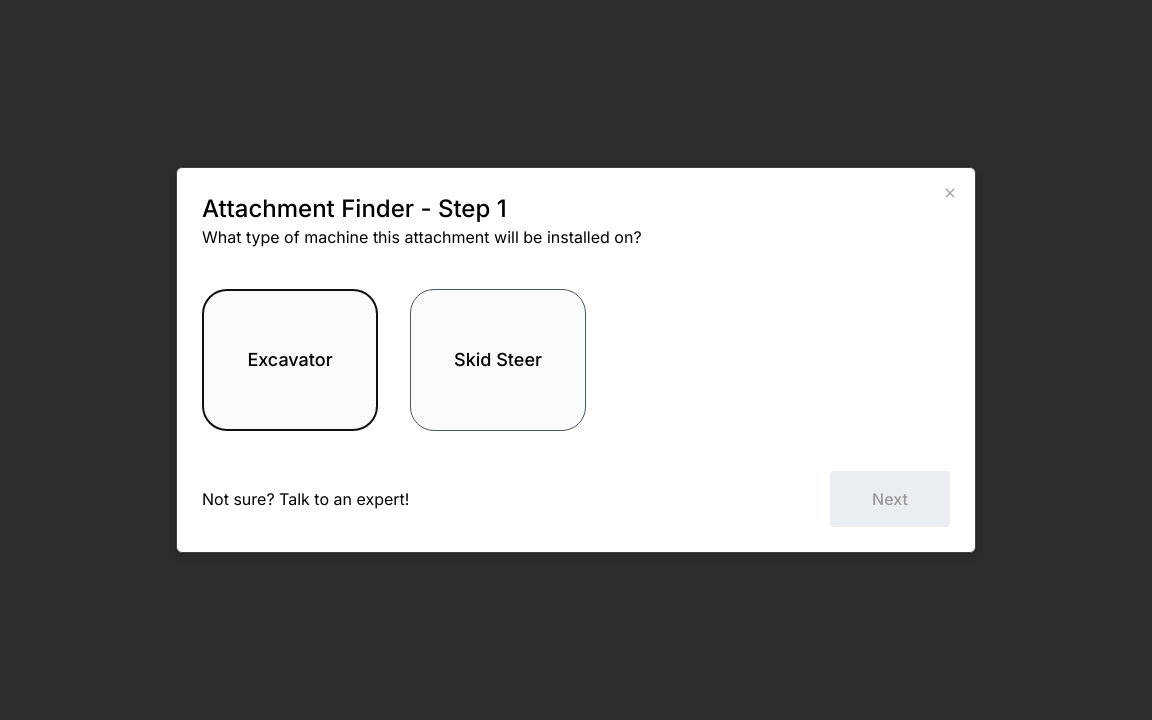
Test: Attachment finder modal › should render second step corretly
# Machine step
Click the button "Skid Steer". click: (498, 360)
box: [410,289,586,431]
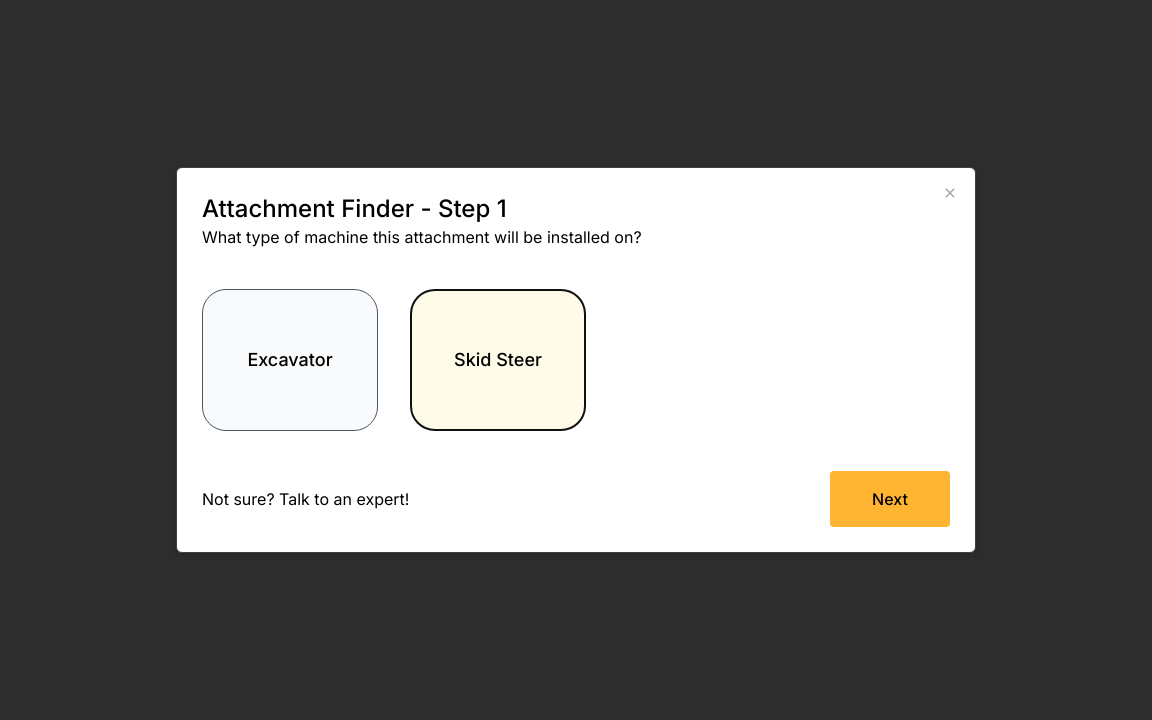
Click the button "Next". click: (890, 499)
box: [830,471,950,527]
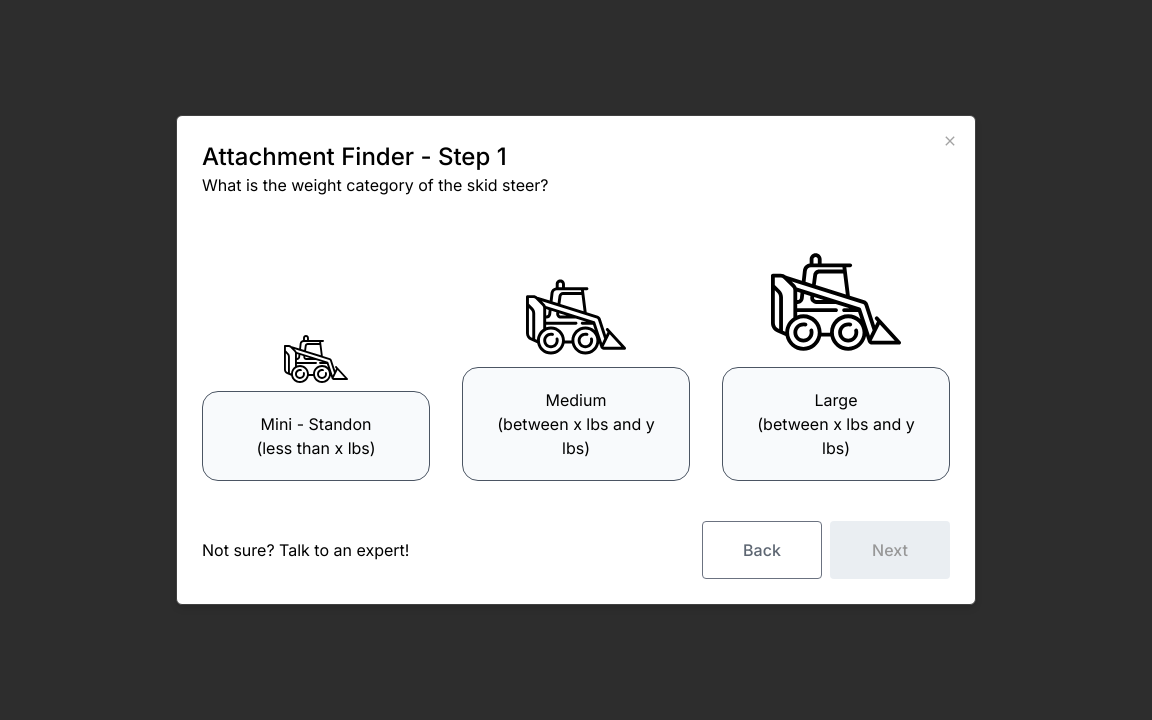
# Weight step
Click the button "Medium (between x lbs and y lbs)". click: (576, 424)
box: [462,367,690,481]
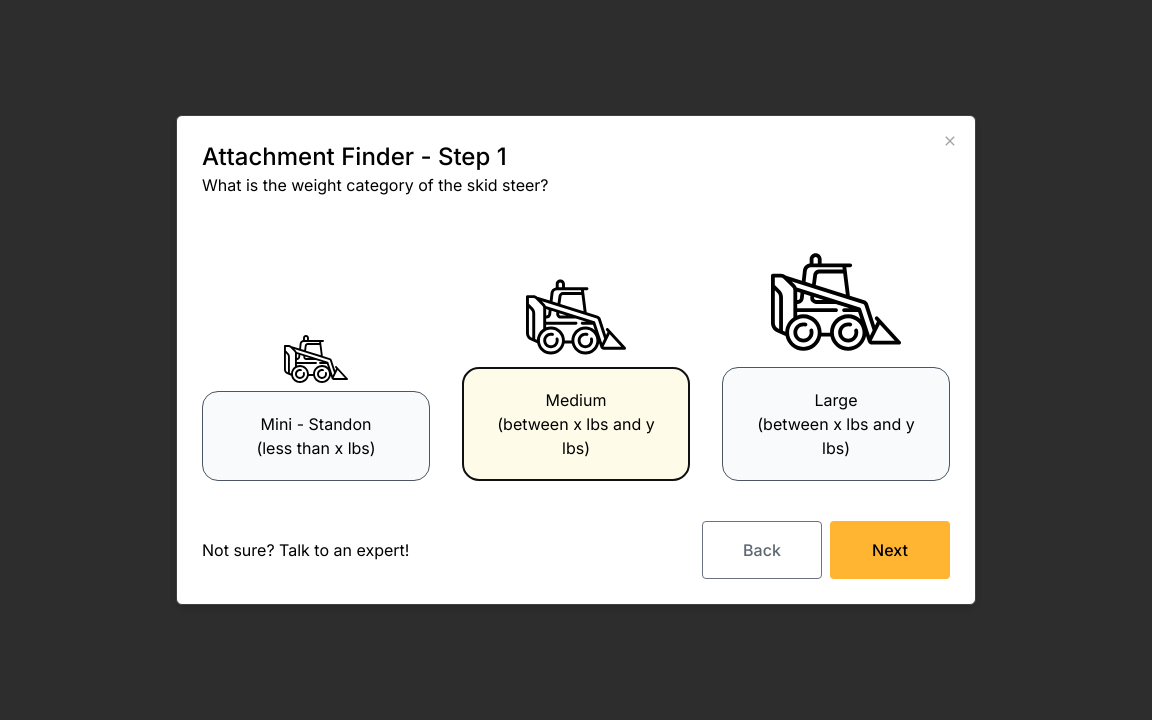
Click the button "Next". click: (890, 550)
box: [830,521,950,579]
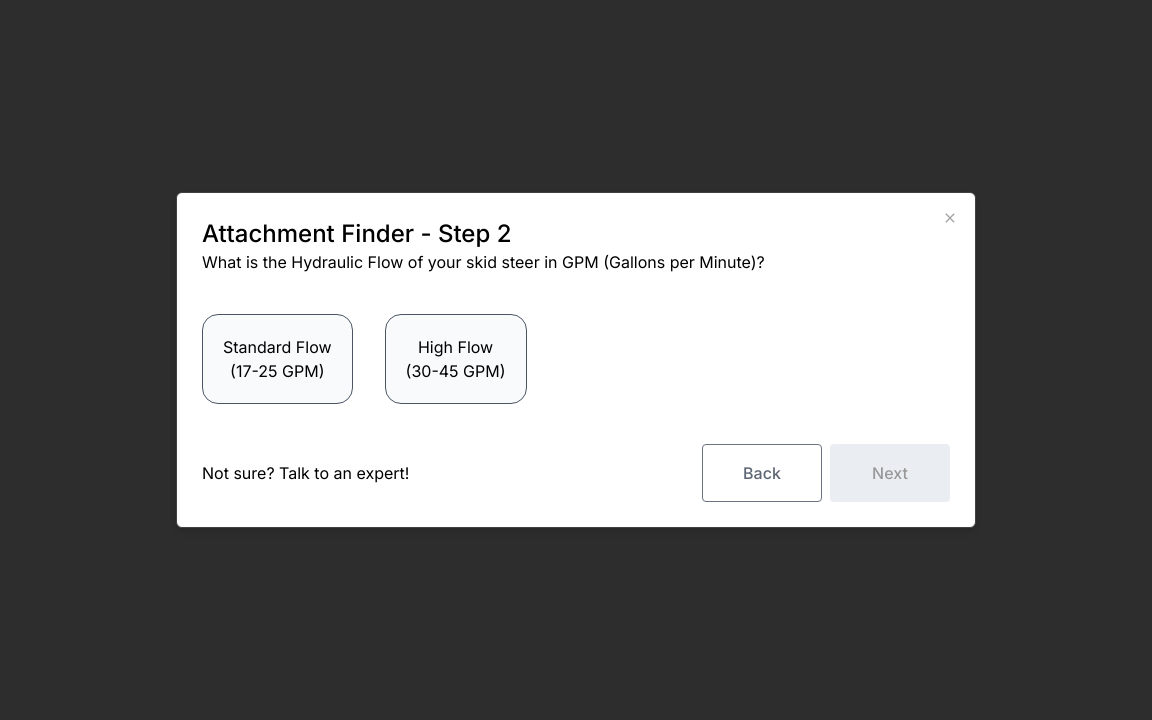
Now the heading "Attachment Finder - Step 2" is shown, box [202,219,512,248]
Now the text "What is the Hydraulic Flow of your skid steer in GPM (Gallons per Minute)?" is shown, box [202,252,765,272]
Now the button "Standard Flow (17-25 GPM)" is shown, box [202,314,353,404]
